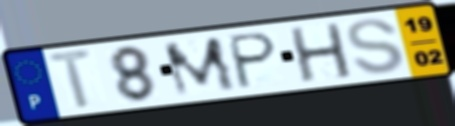8: (107, 44, 159, 105)
H: (287, 21, 357, 85)
M: (160, 34, 241, 99)
P: (227, 30, 280, 92)
S: (344, 17, 407, 76)
T: (44, 47, 98, 113)
